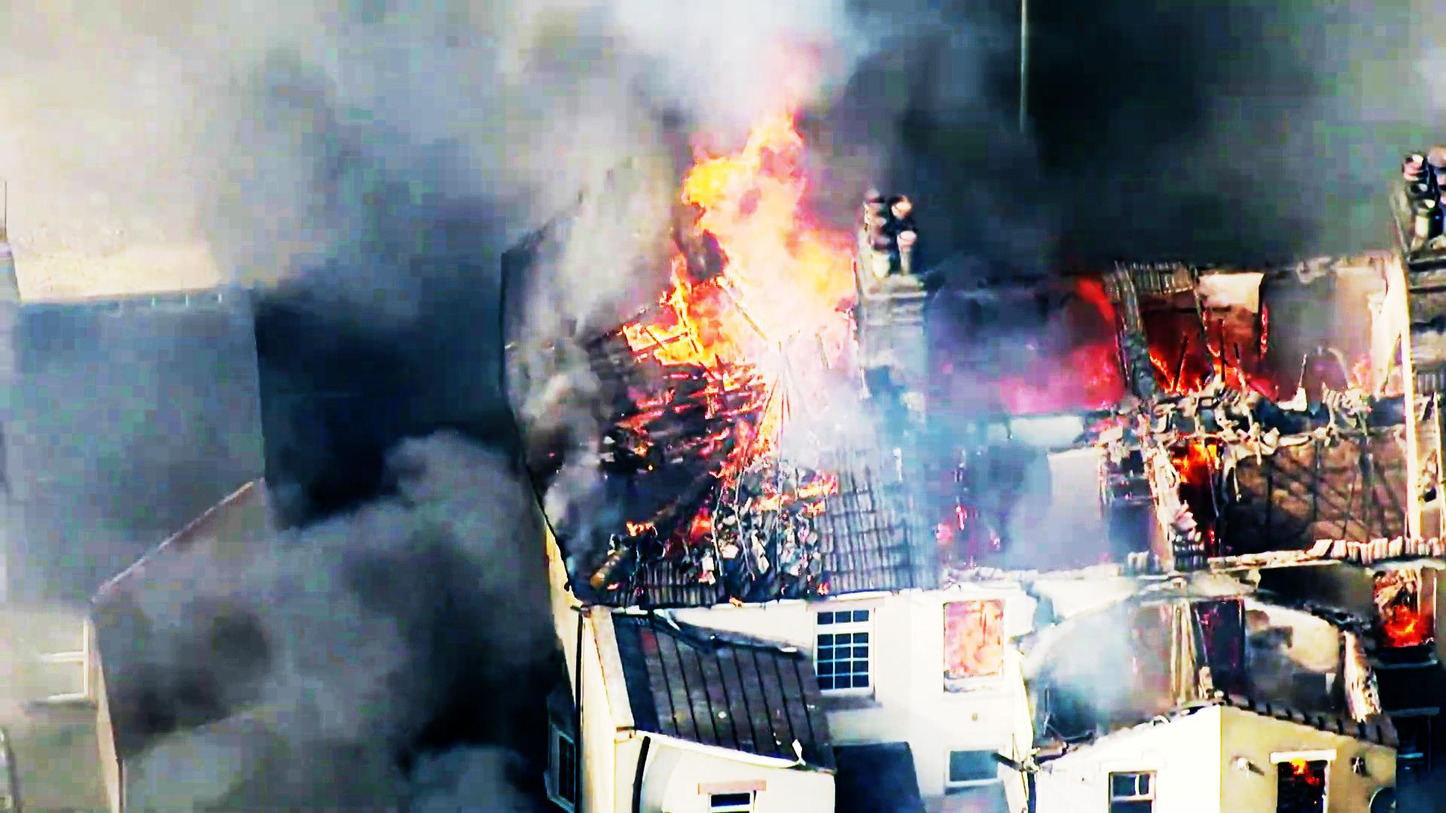fire: (650, 68, 847, 386)
smoke: (957, 0, 1446, 258)
